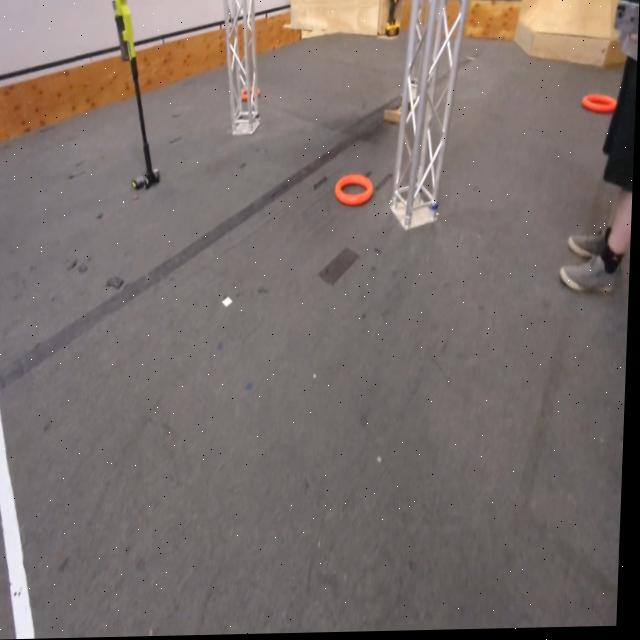note: (334, 174, 375, 208), (581, 95, 618, 117)
